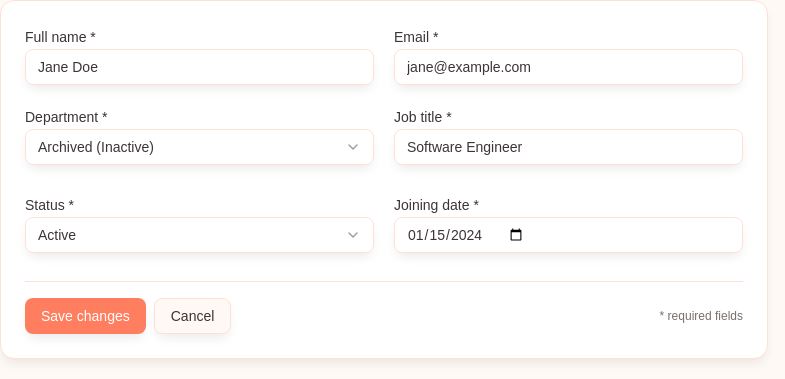
Test: EmployeeForm › keeps an inactive department selectable when editing that employee
Step 1. Click the dropdown named "Department" → [65, 147], box [25,129,374,165]
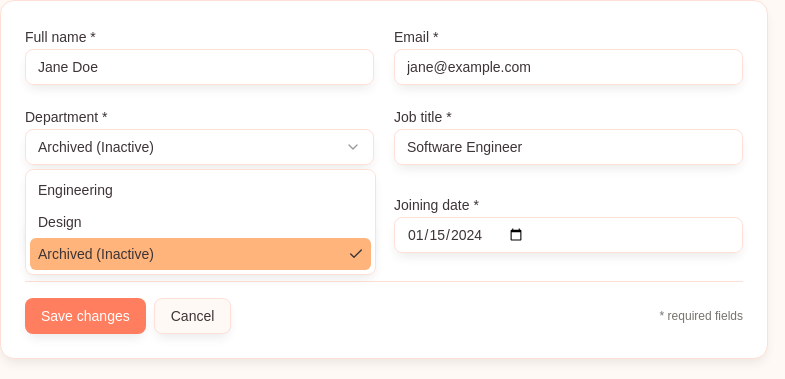
Expected: the option "Archived (Inactive)" is shown, [30,238,371,270]
